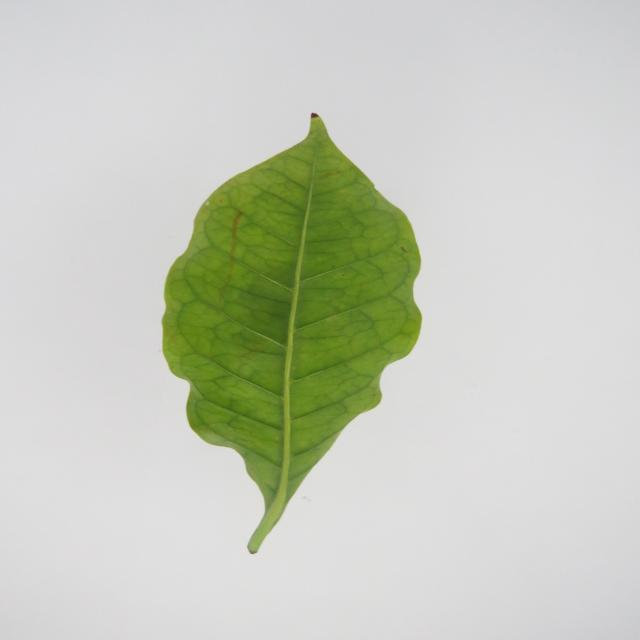DeficienciaNutricional-Calcio: (163, 114, 422, 554)
